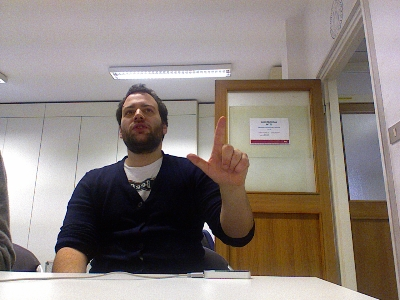枪: (184, 113, 251, 184)
